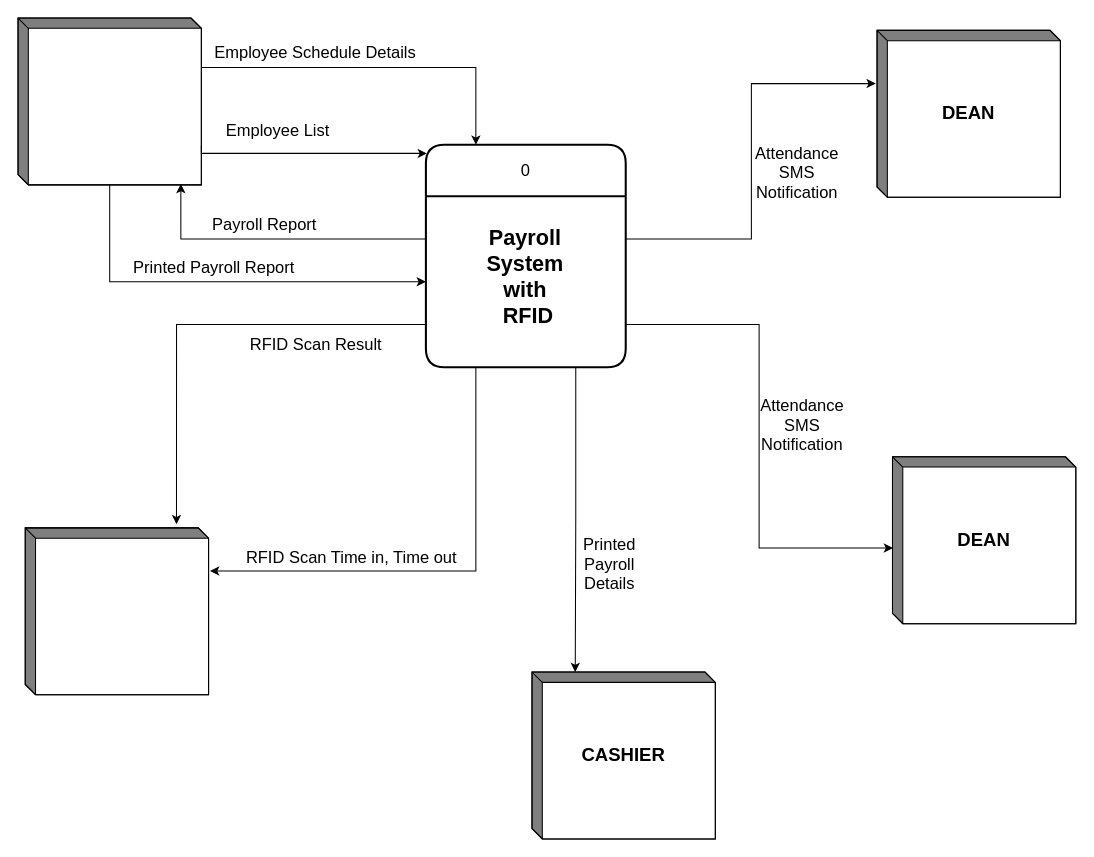
Image size: 1094x857. Some labels were removed from this diagram. The centre of each missing label's shape, as x and y in pixels:
"EMPLOYEE" belongs at (x=116, y=611).
"PRESIDENT" belongs at (x=109, y=101).
